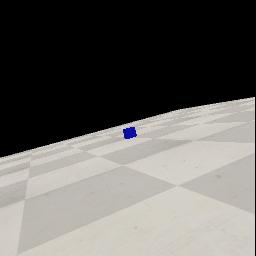box: (123, 127, 137, 139)
